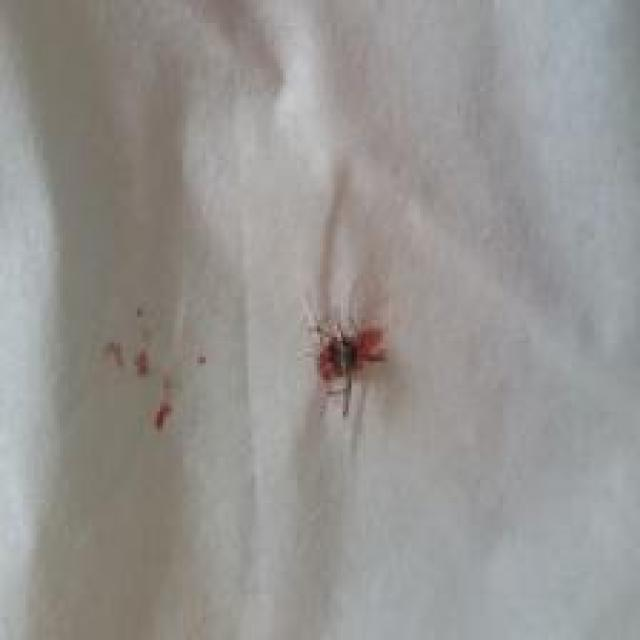Aedes albopictus: (306, 314, 388, 417)
